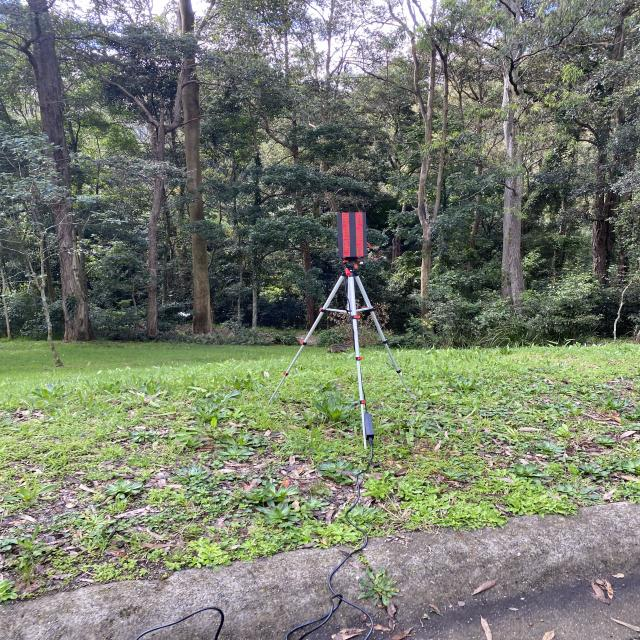matrix: (329, 207, 377, 260)
